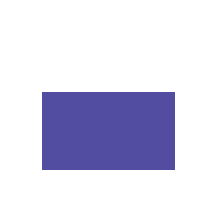rectangle: (42, 92, 174, 169)
